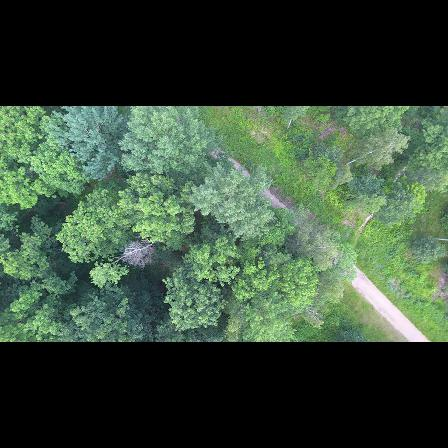Dead: (119, 235, 164, 268)
